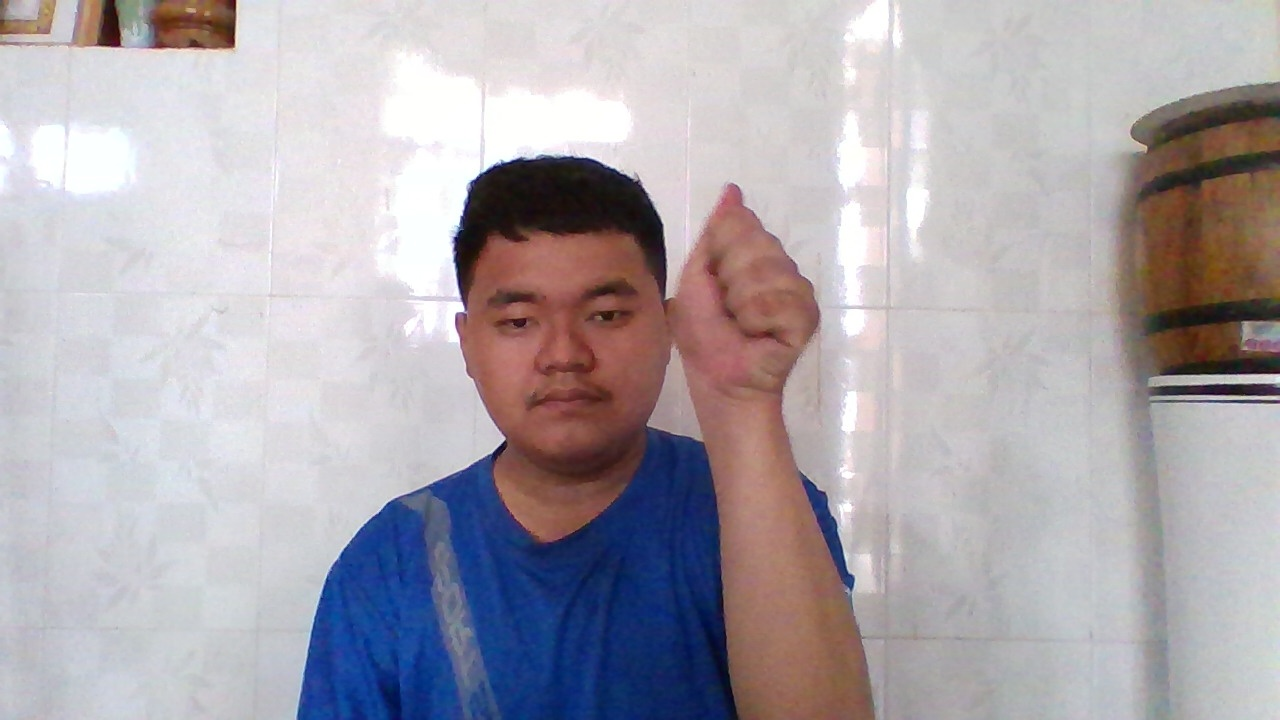A: (671, 180, 824, 390)
